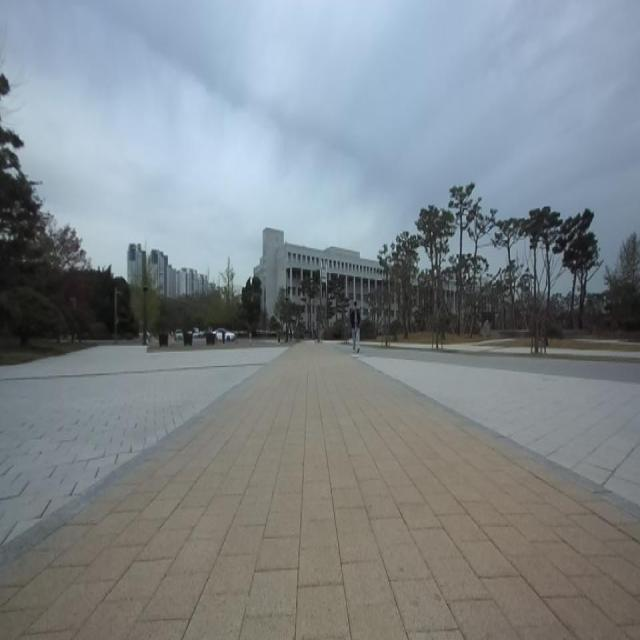sidewalk: (0, 344, 640, 639), (444, 344, 532, 353), (548, 349, 640, 357), (391, 343, 430, 348), (360, 342, 381, 345)
